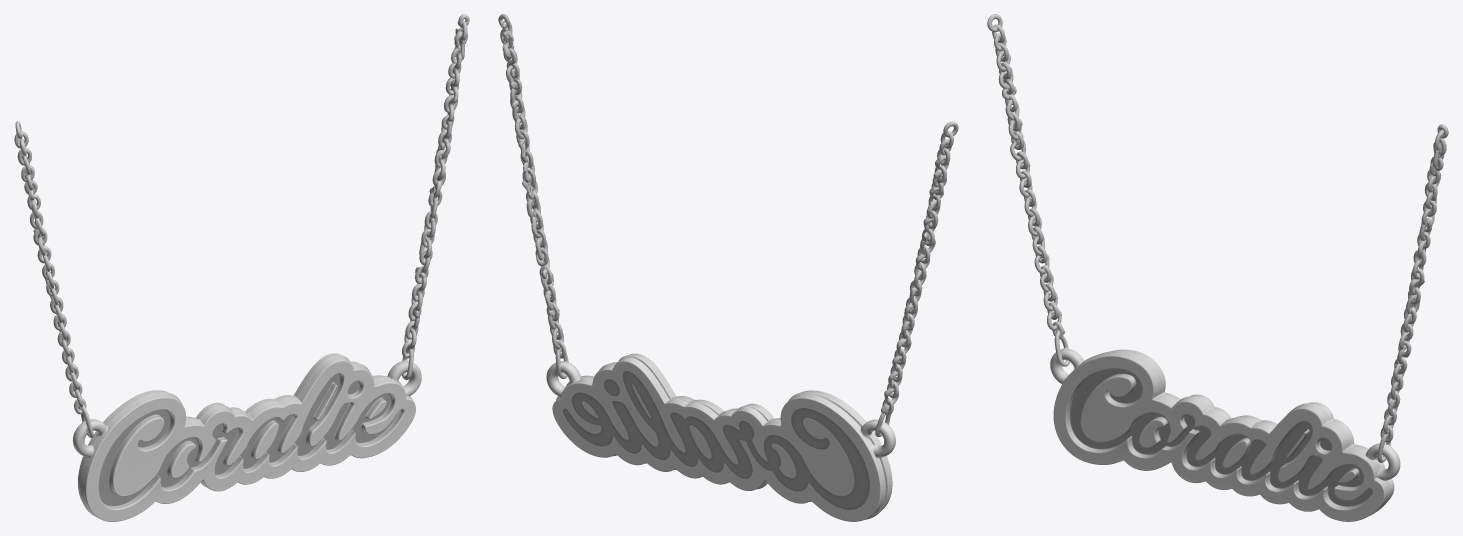
The model's file is keychain.glb.
3 renders of one model, left to right at view 1: azimuth 30°, elevation 25°; view 2: azimuth 150°, elevation 25°; view 3: azimuth 330°, elevation 25°, orthographic.
Size of the model in its own units: 1.9 by 1.68 by 0.0771.
Materials: 1 (1 with a texture image).
